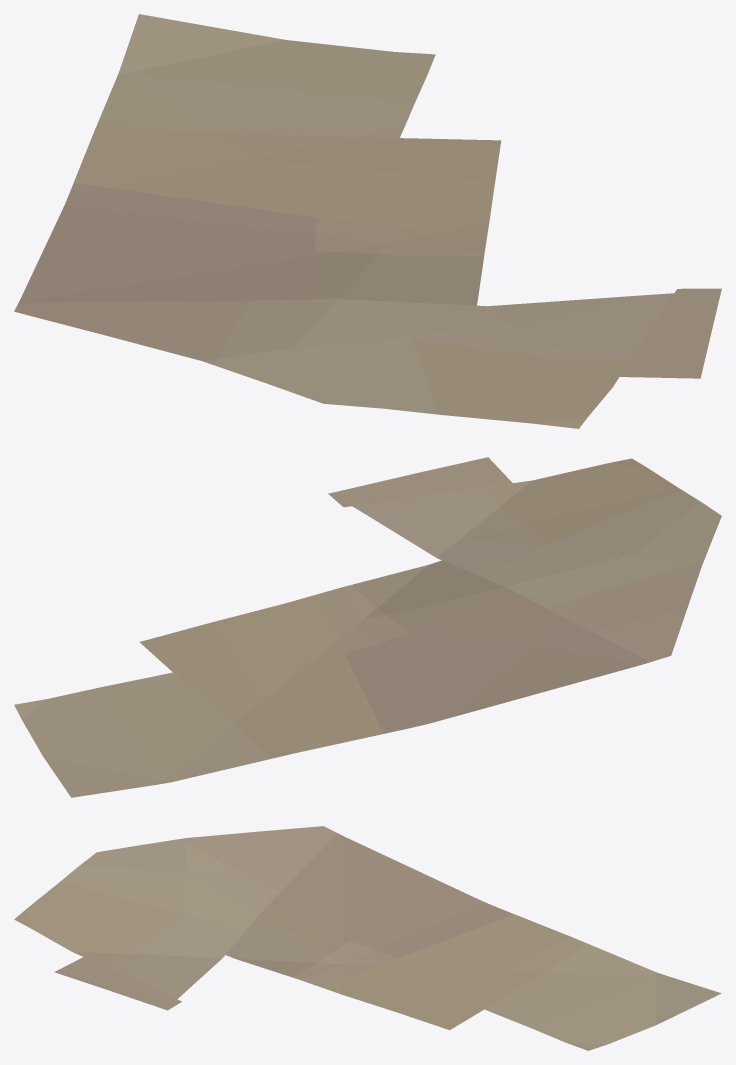
The model's file is farm_-18_-26_soil.glb.
3 renders of one model, top to bottom at view 1: azimuth 30°, elevation 25°; view 2: azimuth 150°, elevation 25°; view 3: azimuth 270°, elevation 25°, orthographic. The views are drawn at different scales.
Parts seen in each view (by area): view 1: geometry_0; view 2: geometry_0; view 3: geometry_0.
Part boxes in pixels (x1,y1,x2,y2): geometry_0: (14,14,721,428); geometry_0: (14,457,721,797); geometry_0: (14,826,721,1050).
Size of the model in its own units: 228 by 27.11 by 362.
